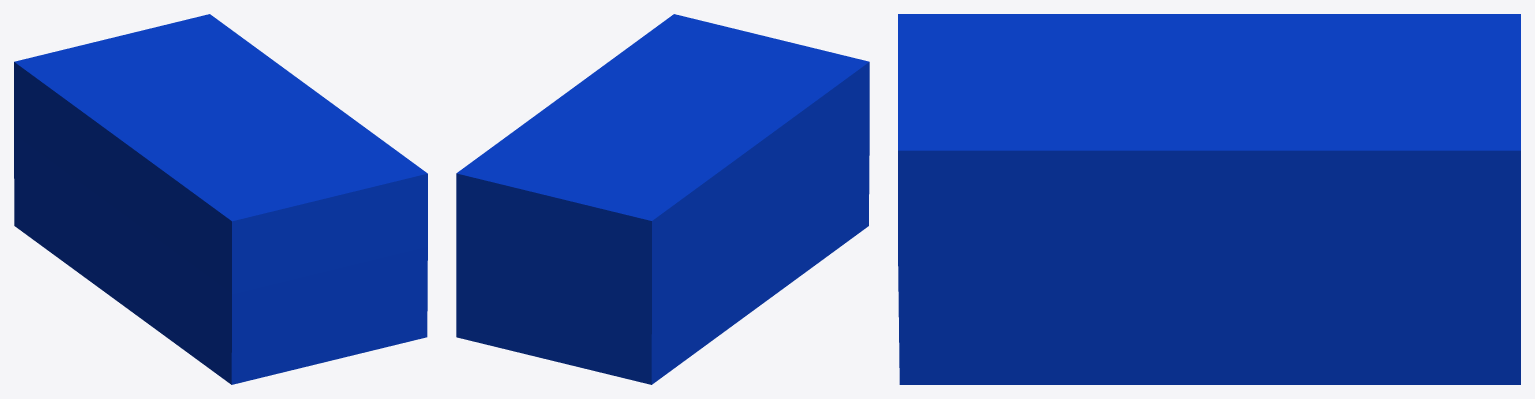
The model's file is simple_example_hole_part_68.obj.
The picture shows the model from 3 angles, left to right: view 1: azimuth 30°, elevation 25°; view 2: azimuth 150°, elevation 25°; view 3: azimuth 270°, elevation 25°; orthographic projection. The views are drawn at different scales.
Bounding box in the file's own units: 0.8428 × 0.6749 × 1.63.
